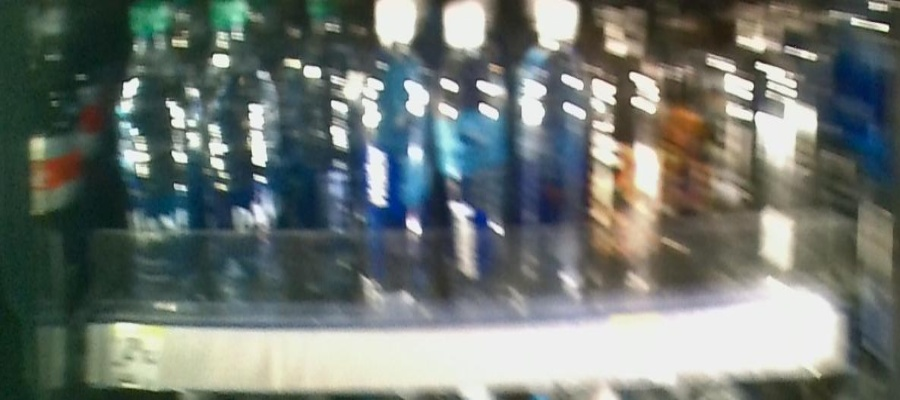bottle: (111, 9, 197, 323), (202, 11, 281, 324), (361, 3, 434, 316), (437, 7, 512, 310), (519, 5, 589, 307), (286, 7, 347, 323)
